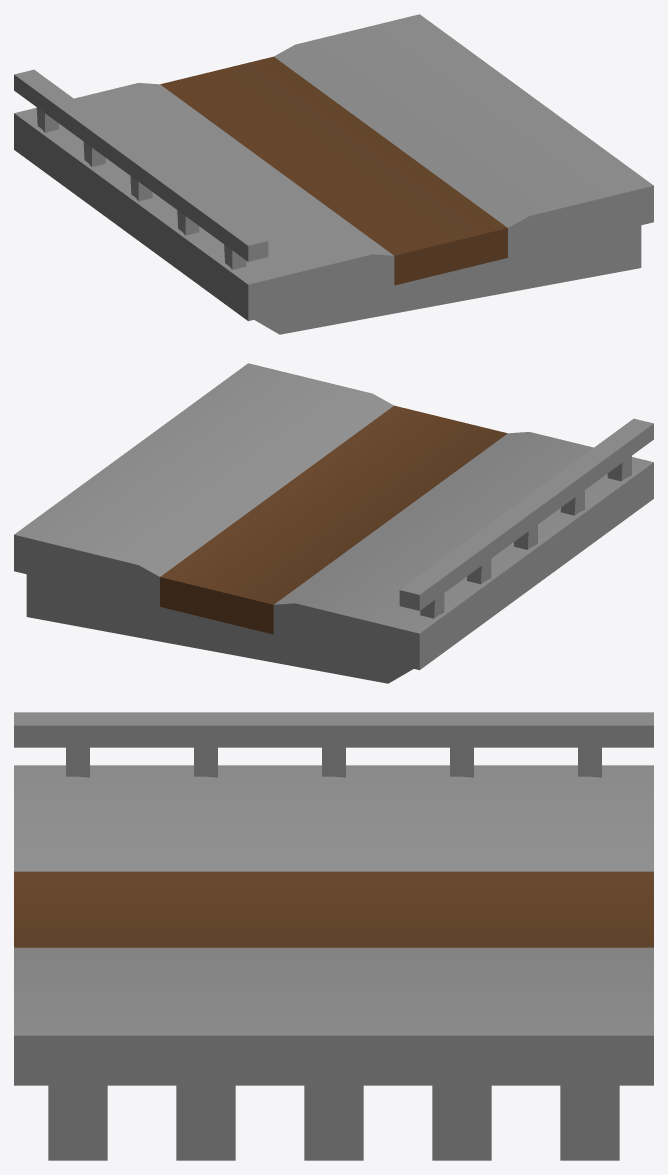
File: BlocLine5.FBX
The picture shows the model from 3 angles, top to bottom: view 1: azimuth 30°, elevation 25°; view 2: azimuth 150°, elevation 25°; view 3: azimuth 270°, elevation 25°; orthographic projection. The views are drawn at different scales.
Visible parts, largest first — view 1: BlocLine5; view 2: BlocLine5; view 3: BlocLine5.
Boxes of the visible parts, left/top/right/bottom form: BlocLine5: left=14, top=14, right=653, bottom=334; BlocLine5: left=14, top=363, right=653, bottom=683; BlocLine5: left=14, top=712, right=653, bottom=1160.
Size of the model in its own units: 5 by 1.53 by 5.
